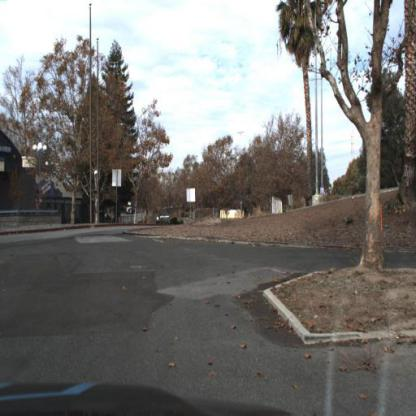car: (160, 213, 172, 222)
